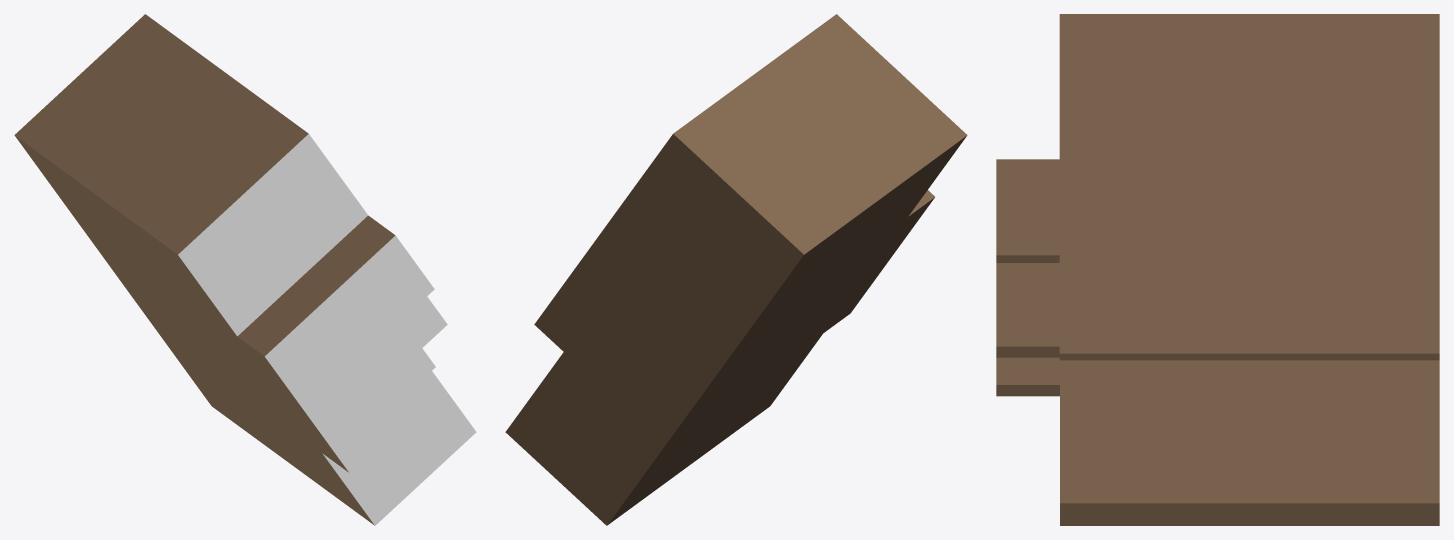
The picture shows the model from 3 angles, left to right: view 1: azimuth 30°, elevation 25°; view 2: azimuth 150°, elevation 25°; view 3: azimuth 270°, elevation 25°; orthographic projection. The views are drawn at different scales.
Visible parts, largest first — view 1: City_PC-08675; view 2: City_PC-08675; view 3: City_PC-08675.
Boxes of the visible parts, x1,y1,x2,y2 form: City_PC-08675: [14, 14, 476, 525]; City_PC-08675: [505, 14, 967, 525]; City_PC-08675: [996, 14, 1439, 525].
Bounding box in the file's own units: 1460 × 1907 × 1615.
